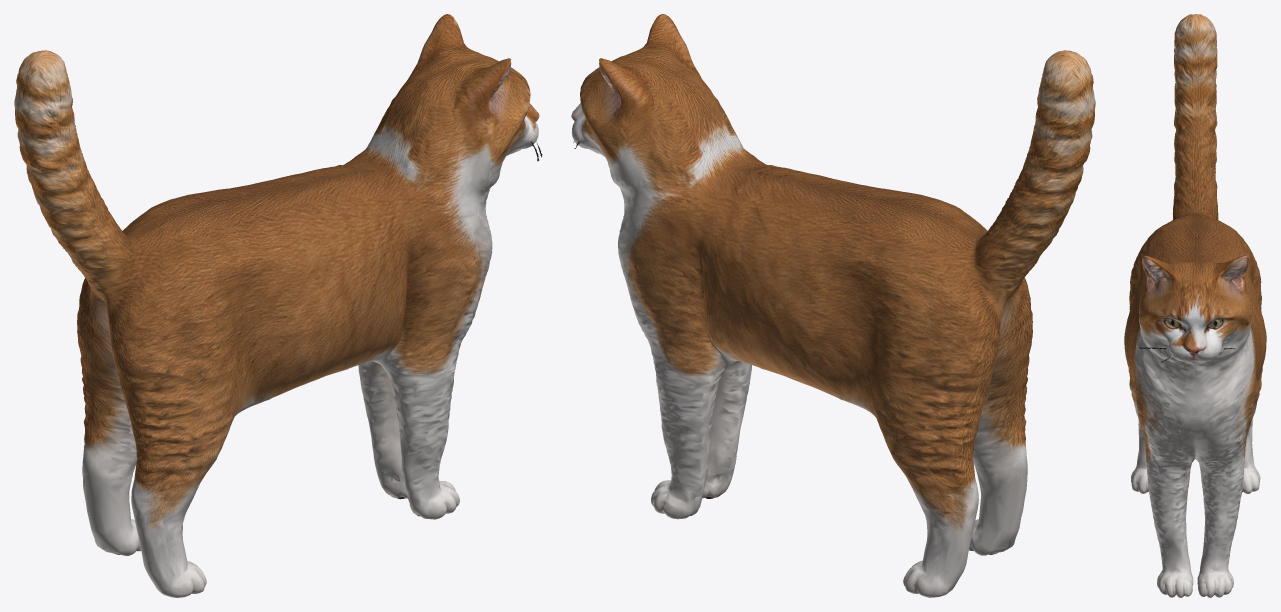
Rendered from RICKKEY.glb.
The picture shows the model from 3 angles, left to right: view 1: azimuth 30°, elevation 25°; view 2: azimuth 150°, elevation 25°; view 3: azimuth 270°, elevation 25°; orthographic projection. The views are drawn at different scales.
Parts seen in each view (by area): view 1: tripo_node_0964be97-3488-4820-b8a0-94e8706e25e3; view 2: tripo_node_0964be97-3488-4820-b8a0-94e8706e25e3; view 3: tripo_node_0964be97-3488-4820-b8a0-94e8706e25e3.
Boxes of the visible parts, x1,y1,x2,y2 form: tripo_node_0964be97-3488-4820-b8a0-94e8706e25e3: (14, 14, 542, 597); tripo_node_0964be97-3488-4820-b8a0-94e8706e25e3: (571, 14, 1095, 597); tripo_node_0964be97-3488-4820-b8a0-94e8706e25e3: (1124, 14, 1266, 597).
Bounding box in the file's own units: 0.9967 × 0.9999 × 0.2983.
1 material, 1 textured.
